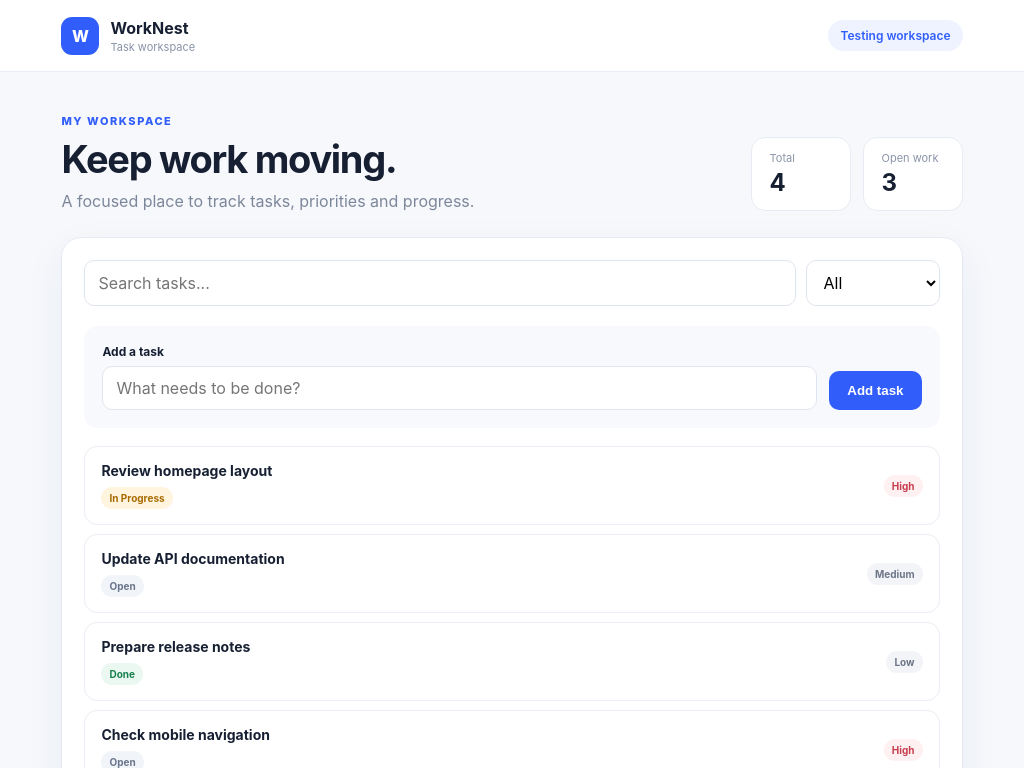
WorkNest › adds a new task from quick add form
Type "Plan sprint" into the field with placeholder "What needs to be done?" at {"x": 460, "y": 388}, box [102,366,817,410]
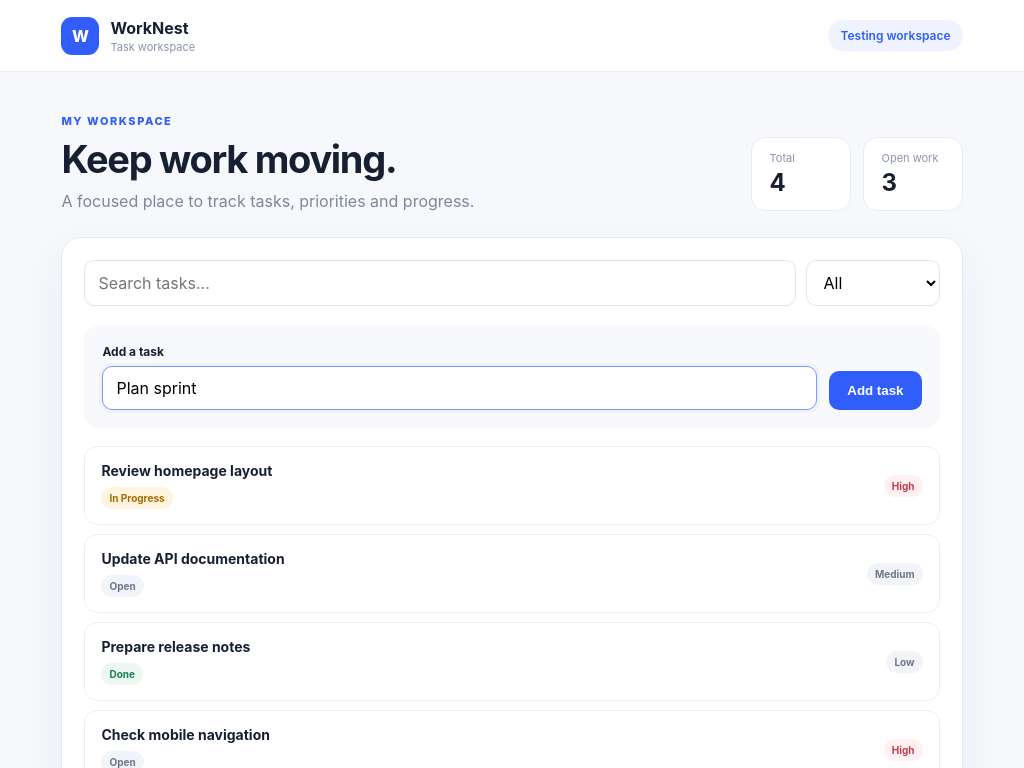
Click the button "Add task" at {"x": 875, "y": 390}, box [829,371,922,410]
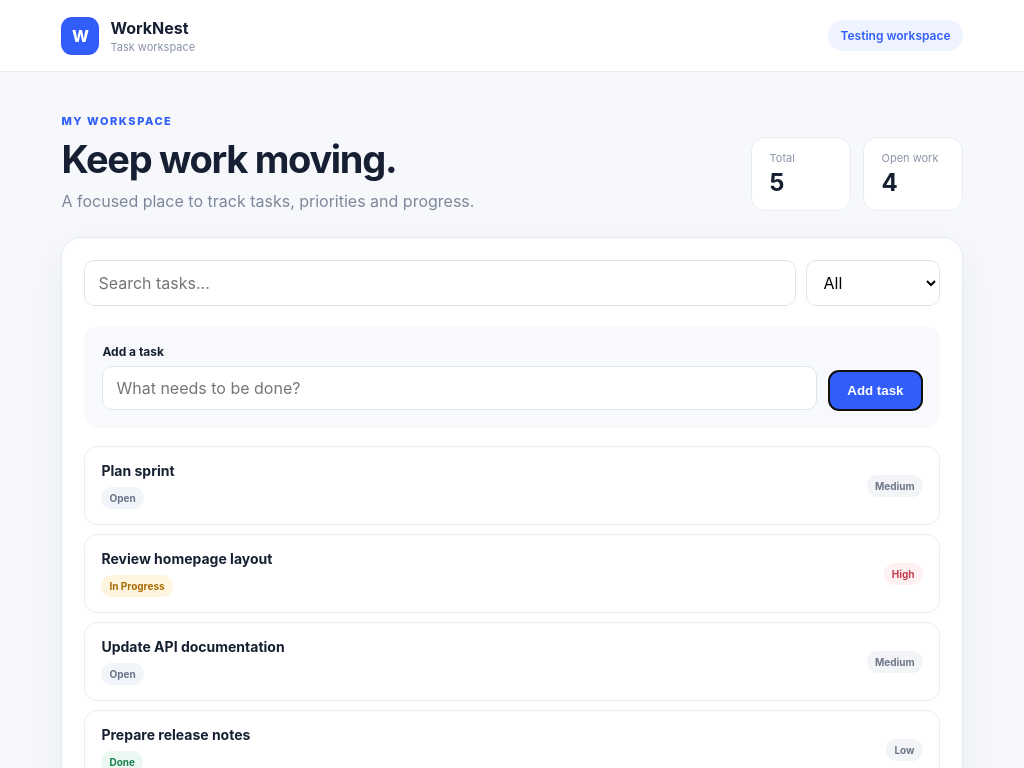
Expected: the heading "Plan sprint" is shown, [101,462,174,479]
